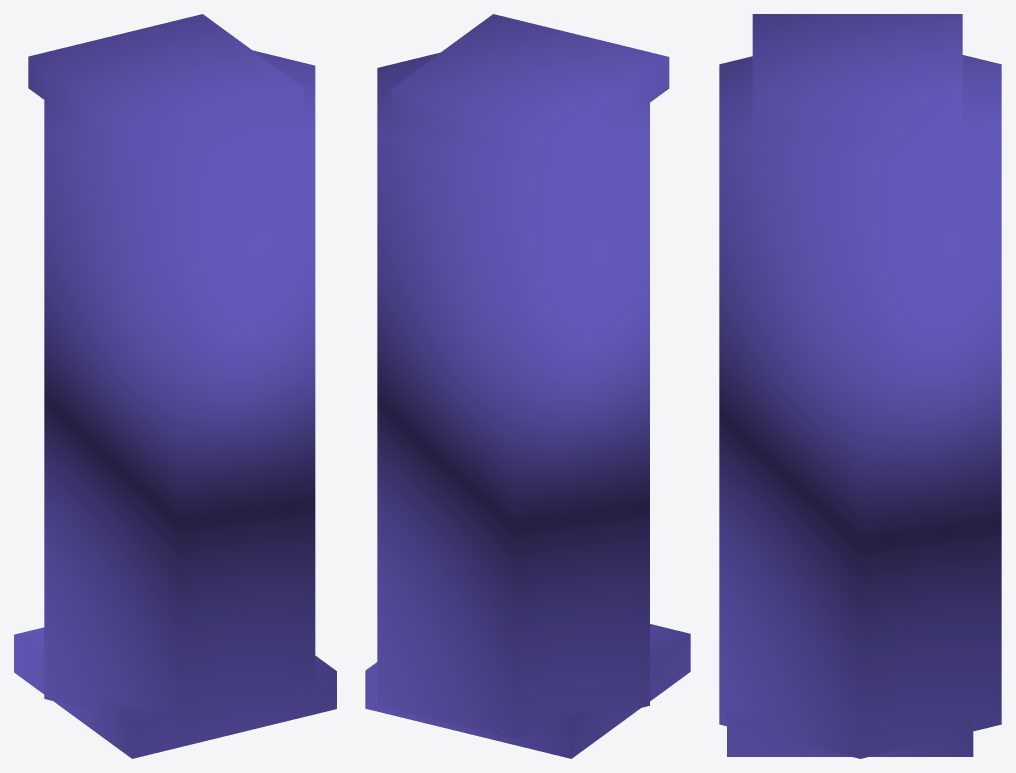
File: ps2_jrpg_undead_temple_sentinel_enemy.obj
The picture shows the model from 3 angles, left to right: view 1: azimuth 30°, elevation 25°; view 2: azimuth 150°, elevation 25°; view 3: azimuth 270°, elevation 25°; orthographic projection. The views are drawn at different scales.
Bounding box in the file's own units: 0.9 × 1.96 × 0.7794.
